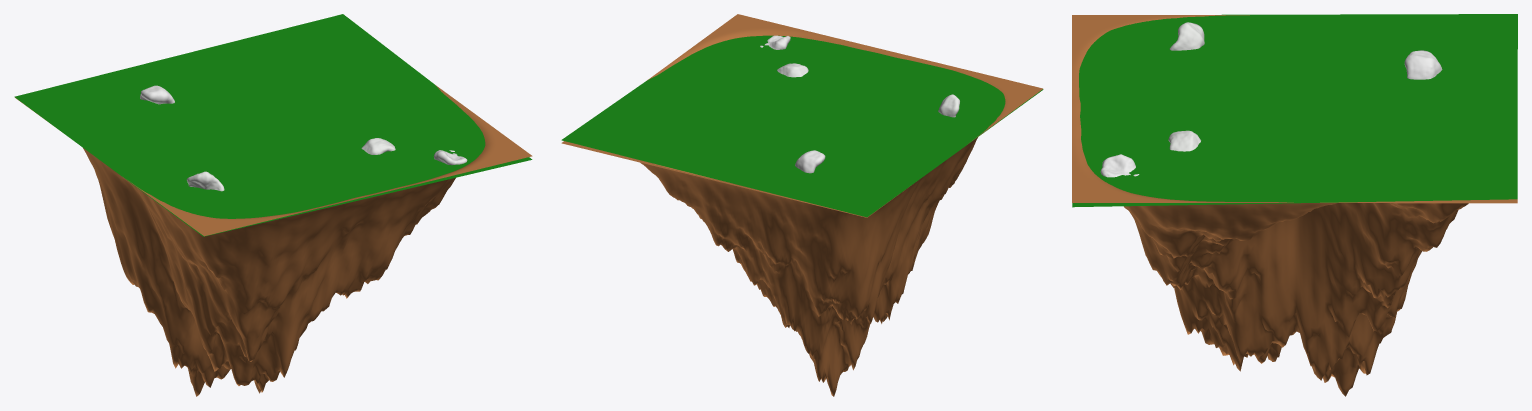
File: grassIslandParent.fbx
3 views of the same model, side by side, from view 1: azimuth 30°, elevation 25°; view 2: azimuth 150°, elevation 25°; view 3: azimuth 270°, elevation 25° (orthographic). The views are drawn at different scales.
Parts seen in each view (by area): view 1: Plane.001, Landscape, rock.002, rock.003; view 2: Plane.001, Landscape, rock.003; view 3: Plane.001, Landscape, rock.003, rock.002, rock.001, rock.
Boxes of the visible parts, x1,y1,x2,y2 form: Plane.001: (14,14,532,236); Landscape: (15,85,532,396); rock.002: (187,171,224,191); rock.003: (140,85,174,104); Plane.001: (561,35,1043,217); Landscape: (561,14,1042,396); rock.003: (795,150,825,173); Plane.001: (1072,14,1517,207); Landscape: (1072,15,1517,396); rock.003: (1404,50,1442,79); rock.002: (1169,22,1204,50); rock.001: (1100,154,1139,177); rock: (1168,130,1200,151).
Bounding box in the file's own units: 1202 × 1009 × 1201.
